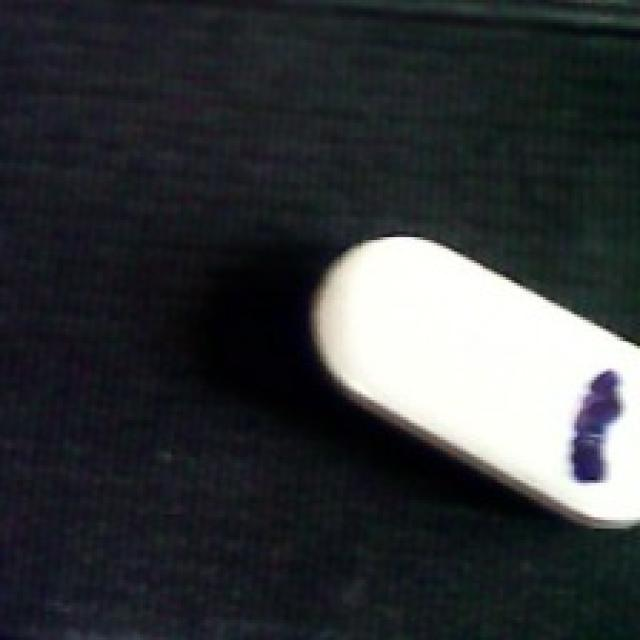defected: (300, 229, 640, 532)
